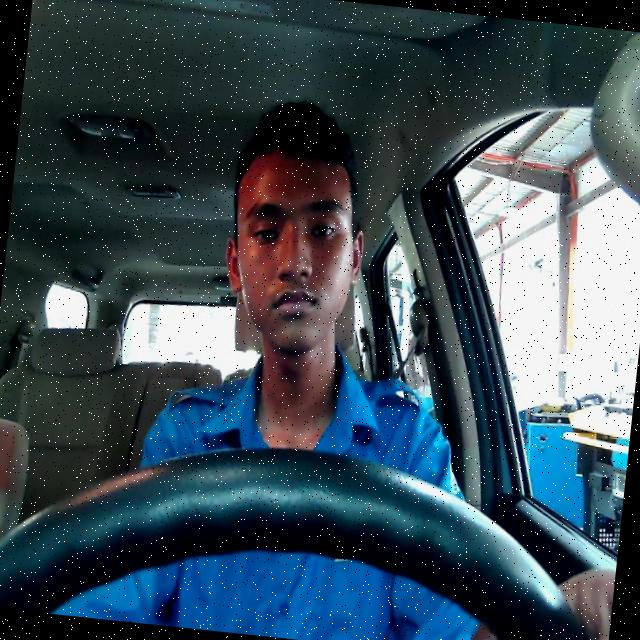focused: (217, 144, 373, 360)
